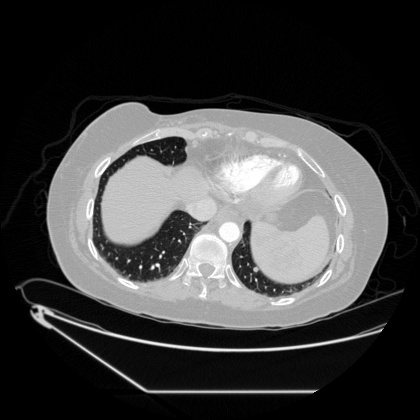PN: (253, 267, 257, 271)
